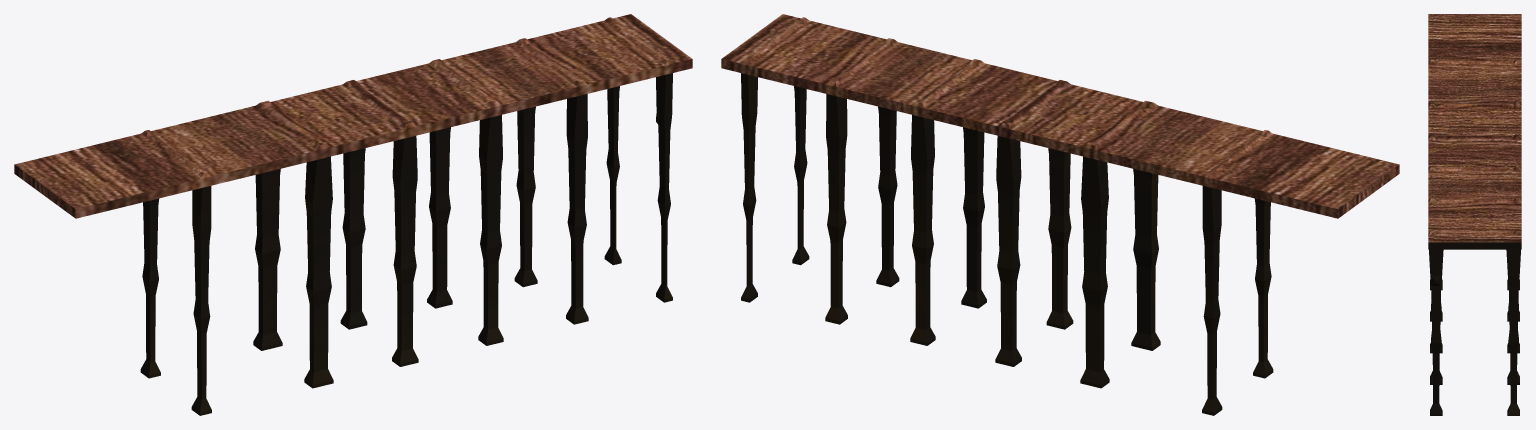
Rendered from Dock_Walkway_Asset.fbx.
3 renders of one model, left to right at view 1: azimuth 30°, elevation 25°; view 2: azimuth 150°, elevation 25°; view 3: azimuth 270°, elevation 25°, orthographic. The views are drawn at different scales.
Parts seen in each view (by area): view 1: Box001; view 2: Box001; view 3: Box001.
Boxes of the visible parts, <box> form: Box001: <box>14,14,692,415</box>; Box001: <box>721,14,1399,415</box>; Box001: <box>1428,14,1521,415</box>.
Size of the model in its own units: 291 by 109 by 50.11.
1 material, 1 textured.
